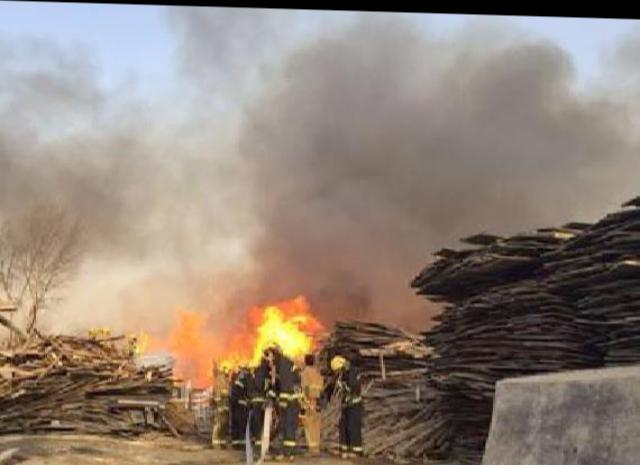fire: (246, 300, 310, 361)
smoke: (0, 0, 639, 219), (0, 208, 428, 273)
